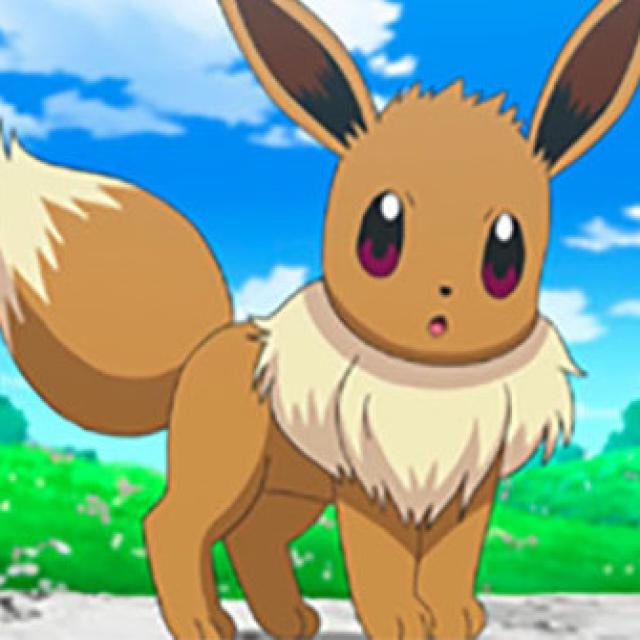Eevee: (136, 69, 582, 639)
